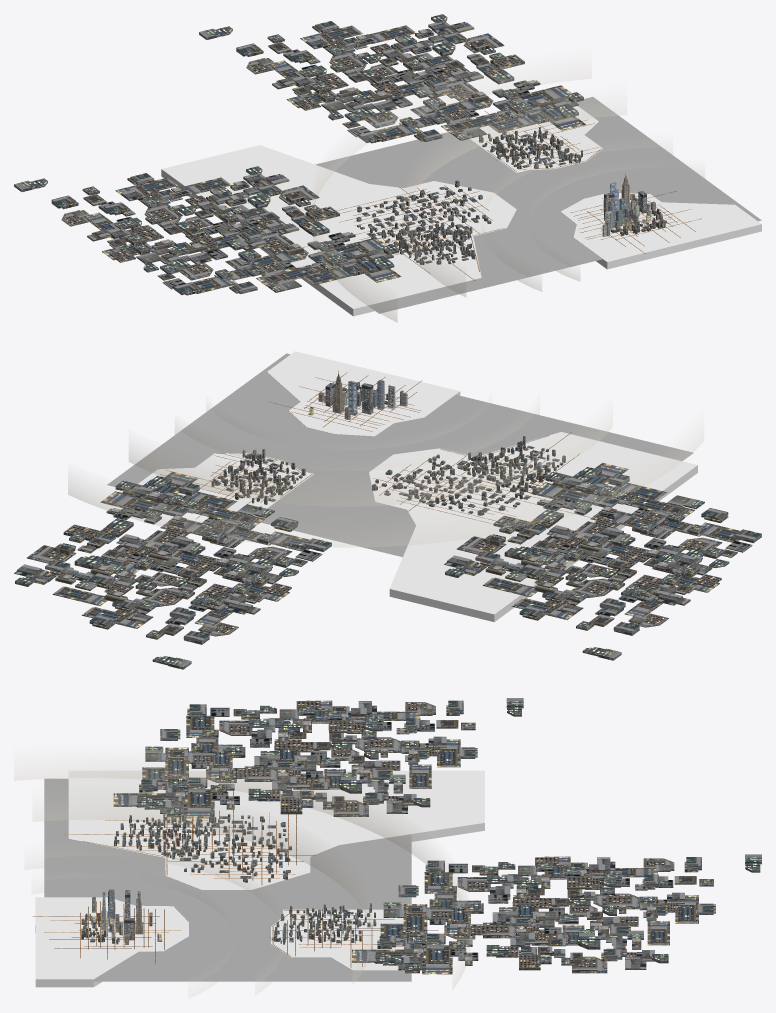
Rendered from CityNight.glb.
The picture shows the model from 3 angles, top to bottom: view 1: azimuth 30°, elevation 25°; view 2: azimuth 150°, elevation 25°; view 3: azimuth 270°, elevation 25°; orthographic projection. The views are drawn at different scales.
Size of the model in its own units: 40.13 by 4.3 by 43.84.
8 materials, 5 textured.
